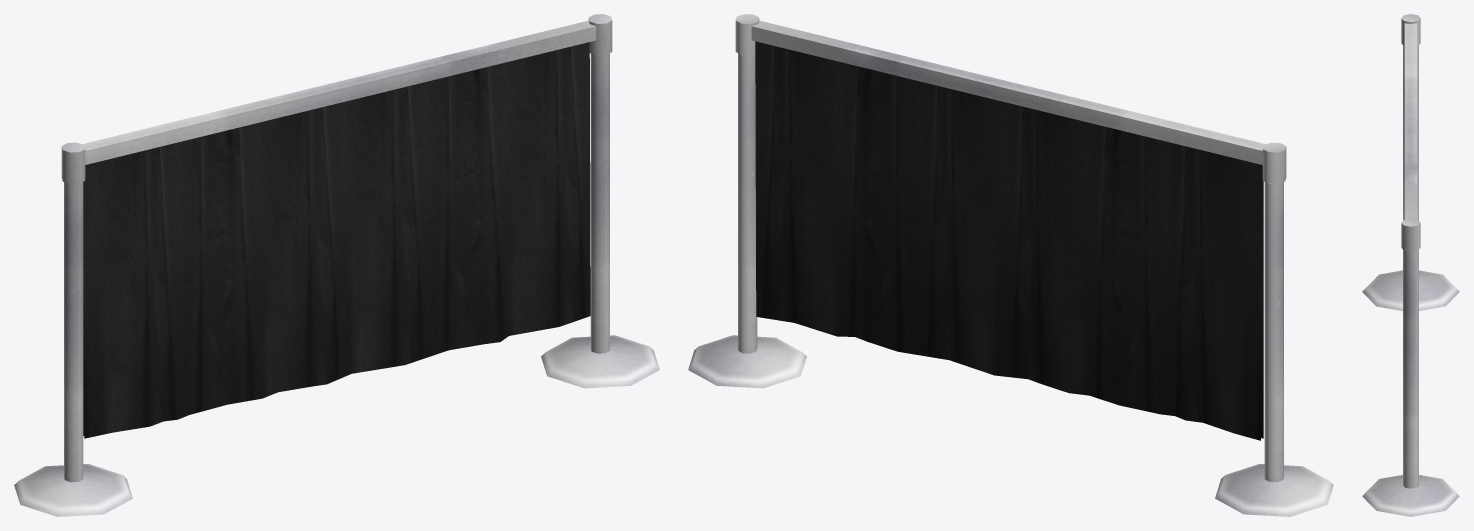
The model's file is partition.FBX.
3 renders of one model, left to right at view 1: azimuth 30°, elevation 25°; view 2: azimuth 150°, elevation 25°; view 3: azimuth 270°, elevation 25°, orthographic. The views are drawn at different scales.
Visible parts, largest first — view 1: partition; view 2: partition; view 3: partition.
Boxes of the visible parts, x1=… form: partition: x1=14, y1=14, x2=659, y2=516; partition: x1=688, y1=14, x2=1333, y2=516; partition: x1=1362, y1=14, x2=1459, y2=516.
Bounding box in the file's own units: 282 × 147 × 47.54.
